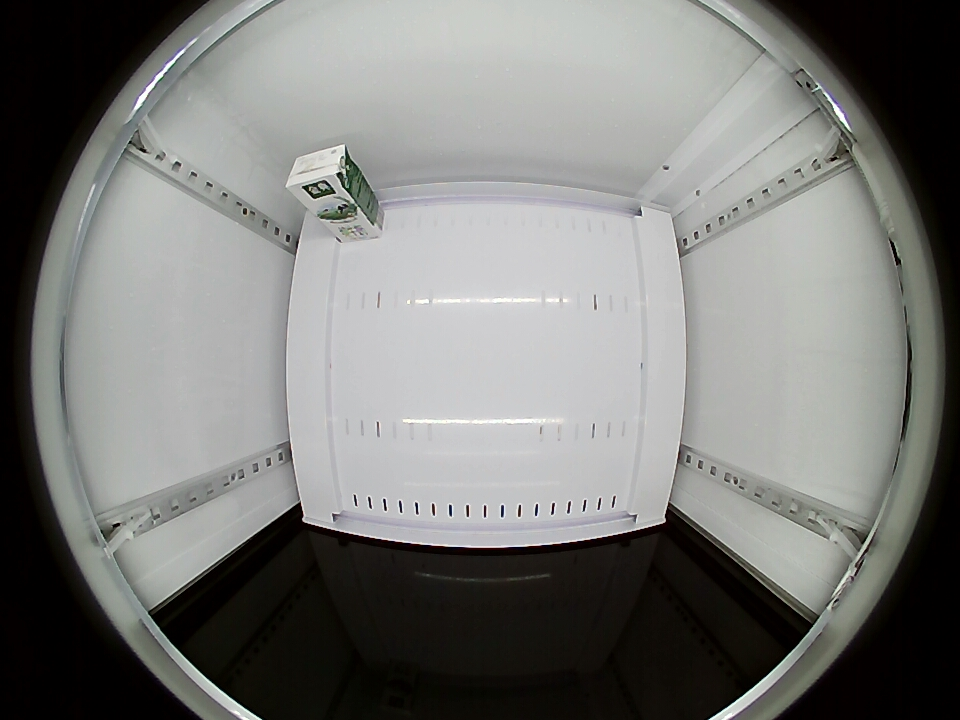jindian: (285, 142, 358, 206)
